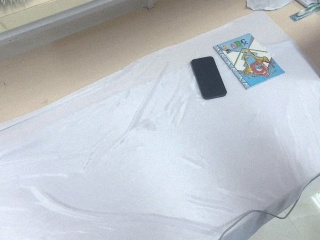book: (213, 33, 285, 90)
phone: (190, 55, 228, 100)
